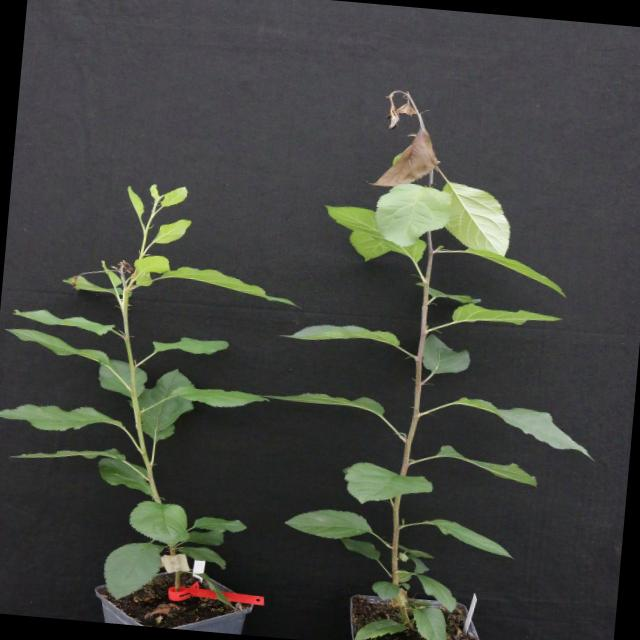-FireBlight-: (365, 83, 442, 191)
